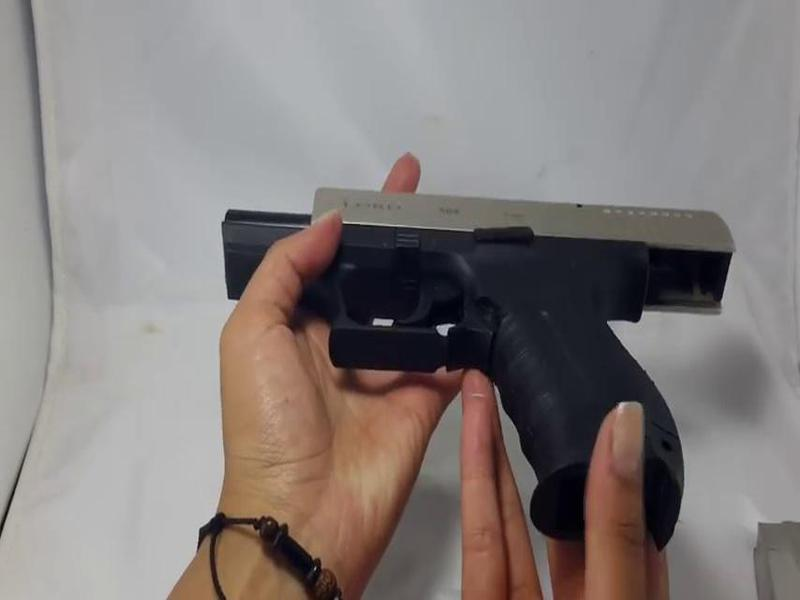Pistola: (187, 154, 787, 533)
